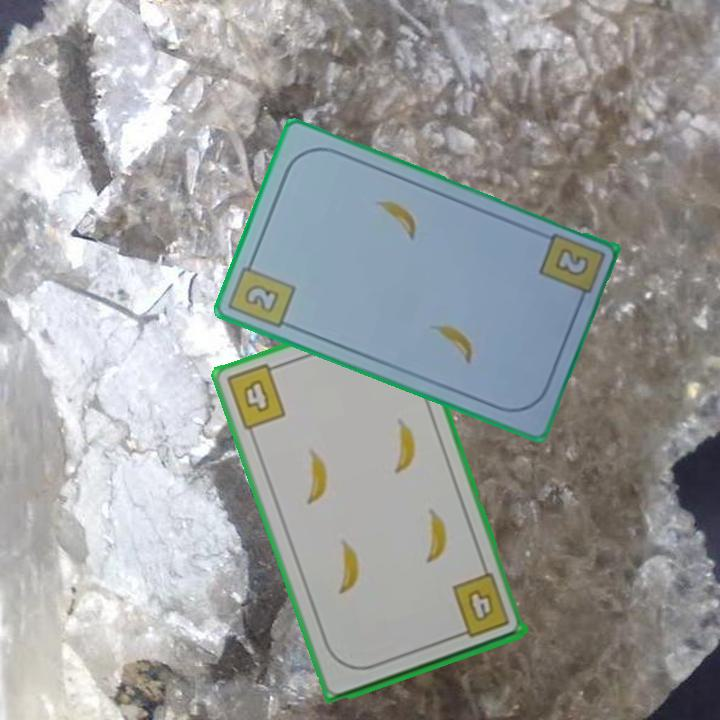2b: (225, 252, 299, 332), (550, 244, 592, 280)
4b: (222, 359, 289, 433), (448, 570, 513, 641)
